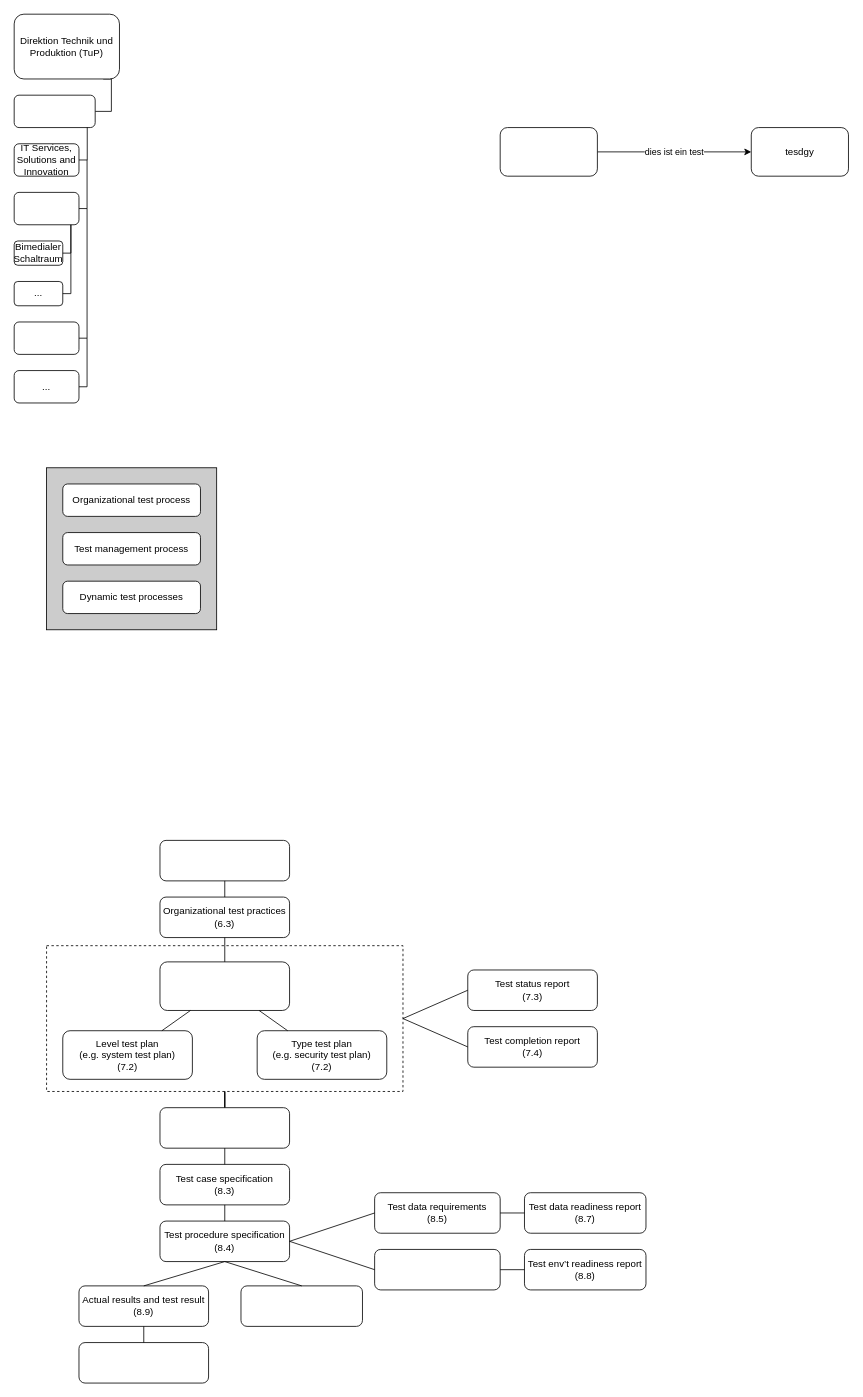
This 863x1397 diagram has some shape labels left out. The shapes that lost their labels are listed below. From the top down, each one's centre as x and y in pixels, then its label:
At point 54,111: "HA Technik".
At point 548,151: "tst".
At point 46,208: "PMOC".
At point 46,337: "IT-Infrastruktur".
At point 224,860: "Test policy (6.2)".
At point 224,985: "Project test plan (e.g. project test plan) (7.2)".
At point 224,1127: "Test model specification (8.2)".
At point 437,1269: "Test env’t requirements (8.6)".
At point 301,1305: "Test execution log (8.10)".
At point 143,1362: "Test incident report (8.11)".
